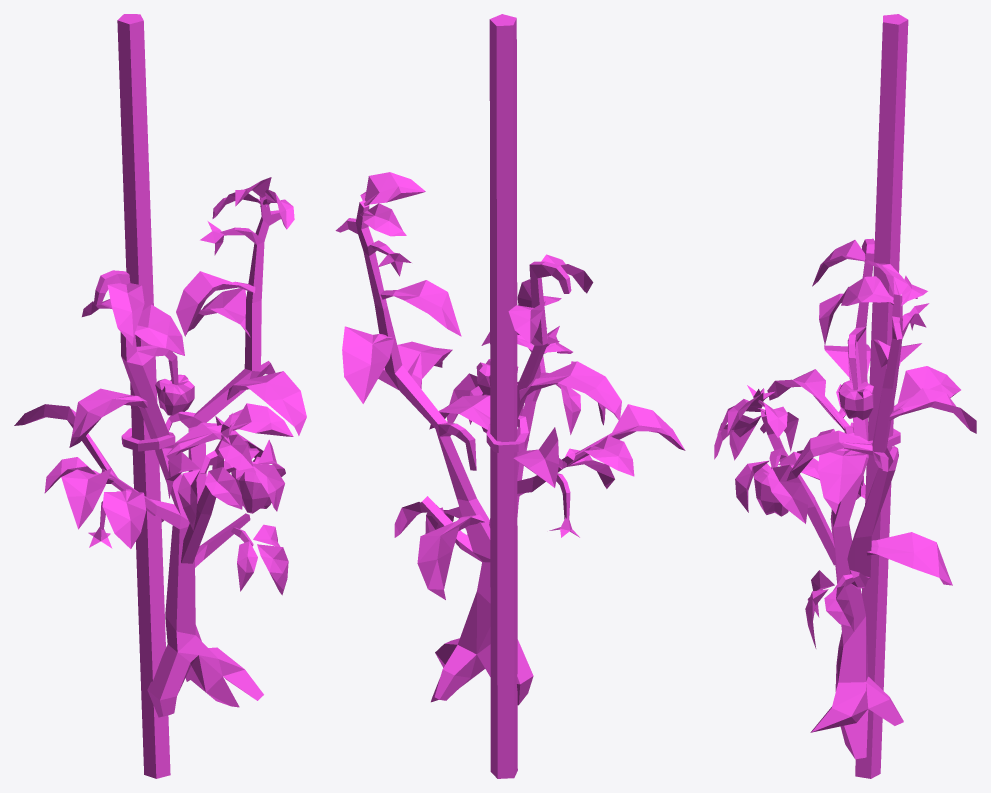
File: SM_Bellpepper_Harvested.fbx
The picture shows the model from 3 angles, left to right: view 1: azimuth 30°, elevation 25°; view 2: azimuth 150°, elevation 25°; view 3: azimuth 270°, elevation 25°; orthographic projection. The views are drawn at different scales.
Visible parts, largest first — view 1: SM_Bellpepper_Harvested; view 2: SM_Bellpepper_Harvested; view 3: SM_Bellpepper_Harvested.
Part boxes in pixels (x1,y1,x2,y2): SM_Bellpepper_Harvested: [14, 14, 306, 778]; SM_Bellpepper_Harvested: [335, 14, 685, 778]; SM_Bellpepper_Harvested: [714, 14, 976, 778].
Bounding box in the file's own units: 0.7972 × 2.07 × 0.6569.
